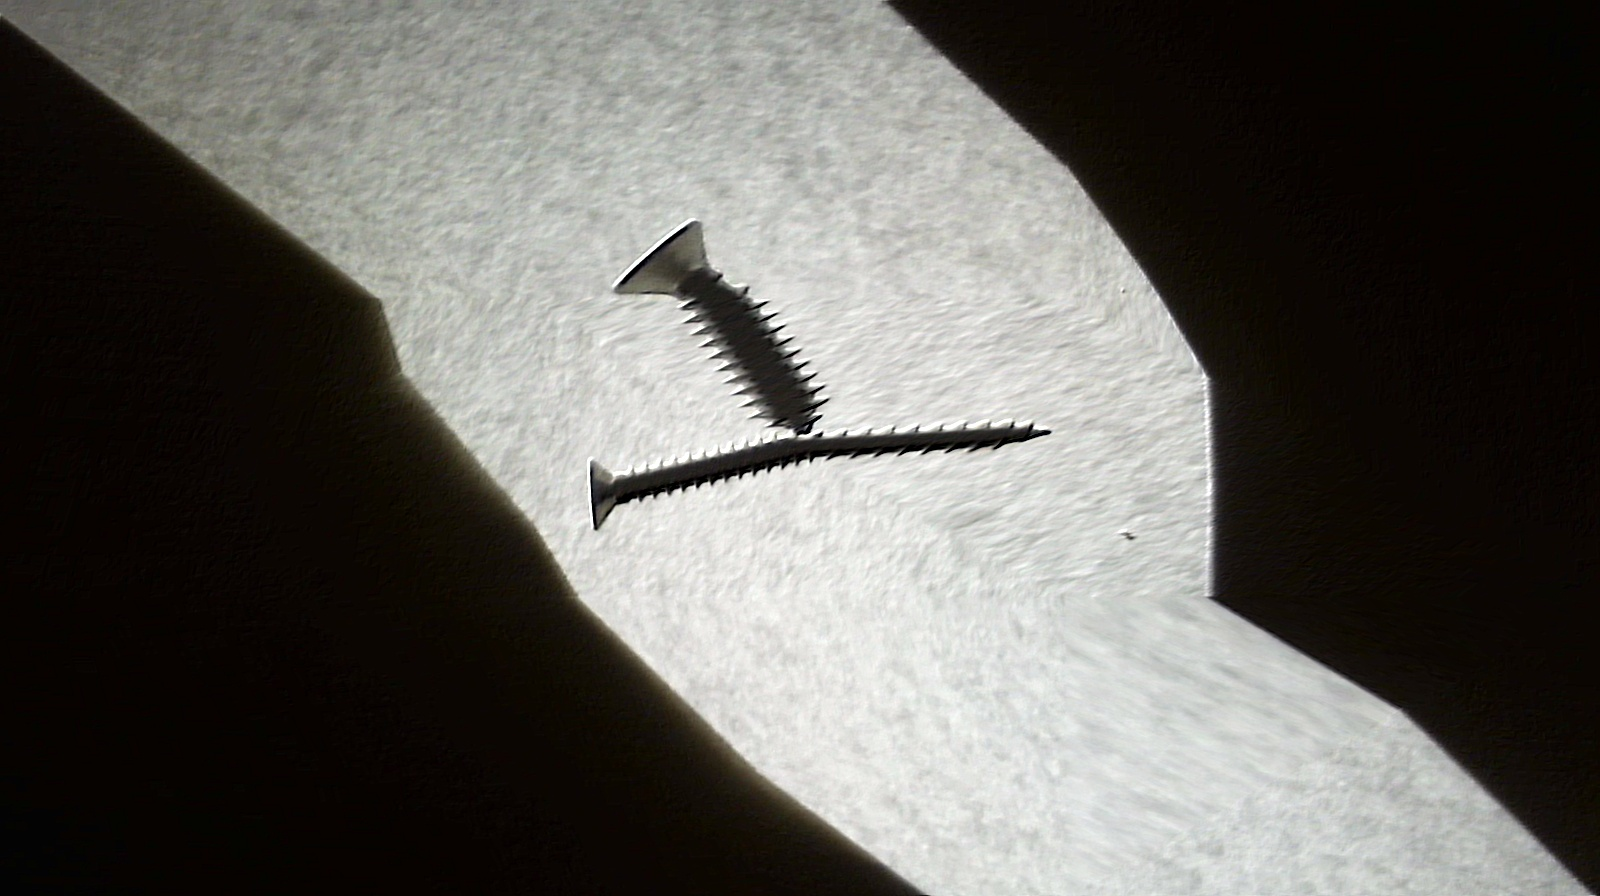S001: (567, 215, 974, 436)
S002: (576, 405, 1068, 529)
